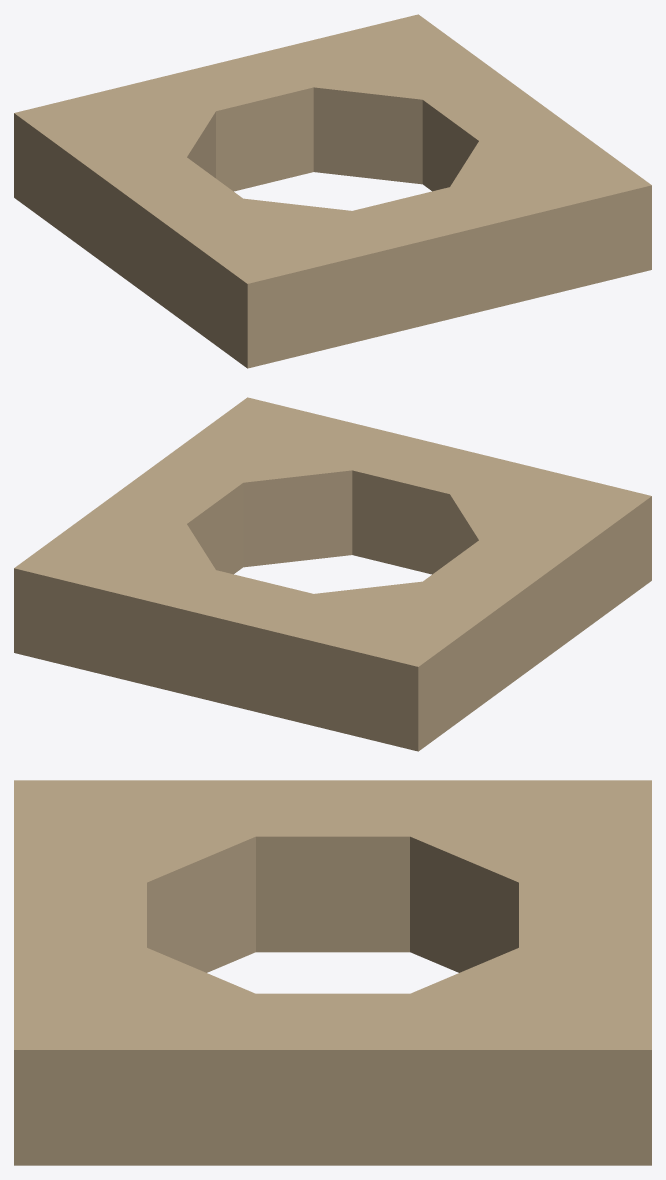
The model's file is Prop_Well_Dirt.obj.
3 renders of one model, top to bottom at view 1: azimuth 30°, elevation 25°; view 2: azimuth 150°, elevation 25°; view 3: azimuth 270°, elevation 25°, orthographic. The views are drawn at different scales.
Parts seen in each view (by area): view 1: object1; view 2: object1; view 3: object1.
Part boxes in pixels (box(x1,y1,x2,y2)): object1: box(14, 14, 651, 368); object1: box(14, 397, 651, 751); object1: box(14, 780, 651, 1165).
Bounding box in the file's own units: 1 × 0.2 × 1.
